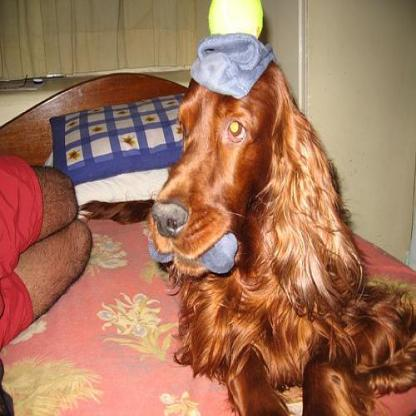Irish_setter: (144, 32, 414, 414)
